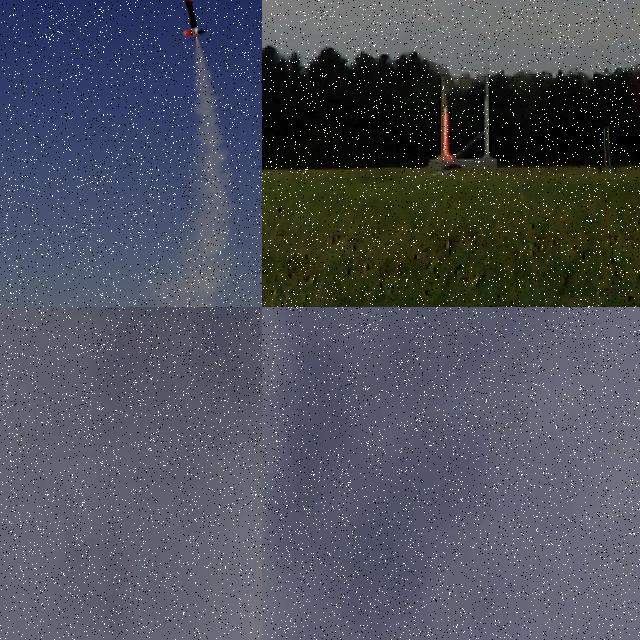Rocket: (436, 94, 455, 163), (181, 0, 208, 40)
